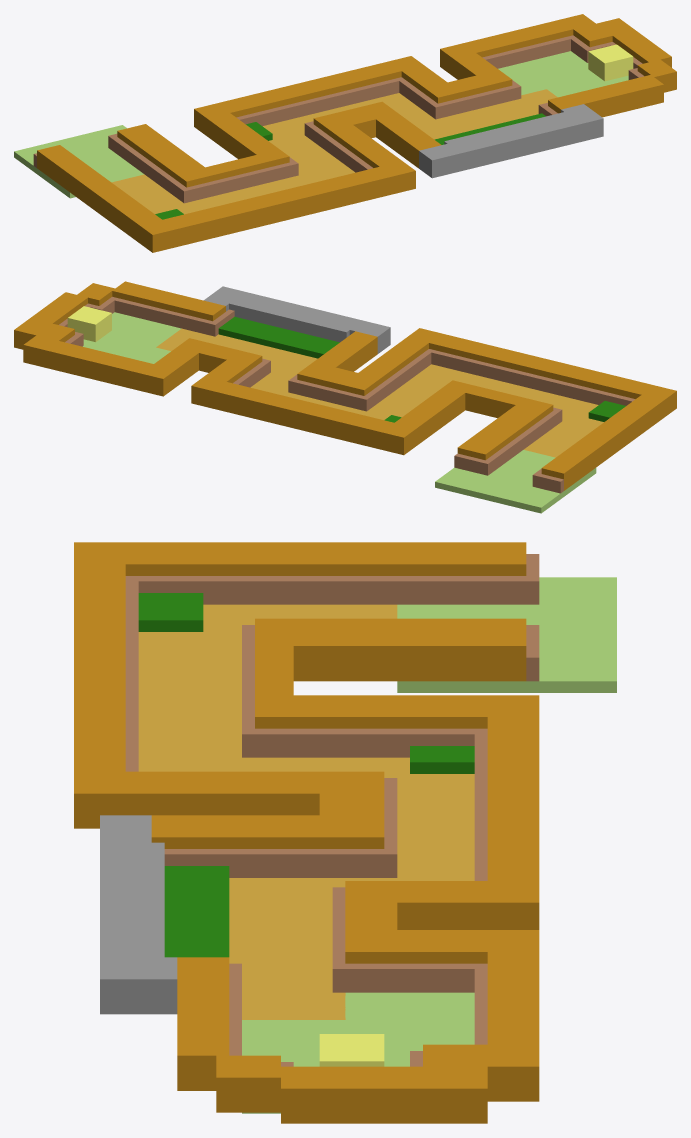
The model's file is letsGoPicachu_02.fbx.
The picture shows the model from 3 angles, top to bottom: view 1: azimuth 30°, elevation 25°; view 2: azimuth 150°, elevation 25°; view 3: azimuth 270°, elevation 25°; orthographic projection. The views are drawn at different scales.
Visible parts, largest first — view 1: Cube.042, Cube.038, Cube.043, Cube.030, Cube.070, Cube.036, Cube.027, Cube.054, Cube.073, Cube.029, Cube.082, Cube.034 (+28 smaller); view 2: Cube.030, Cube.042, Cube.070, Cube.043, Cube.034, Cube.046, Cube.029, Cube.027, Cube.079, Cube.073, Cube.038, Cube.039 (+30 smaller); view 3: Cube.027, Cube.043, Cube.070, Cube.042, Cube.075, Cube.041, Cube.030, Cube.045, Cube.064, Cube.034, Cube.039, Cube.029 (+34 smaller).
Part boxes in pixels (<box>): Cube.042: <box>139,166,392,252</box>; Cube.038: <box>419,114,580,178</box>; Cube.043: <box>37,145,161,242</box>; Cube.030: <box>217,56,424,117</box>; Cube.070: <box>14,125,143,198</box>; Cube.036: <box>548,75,663,117</box>; Cube.027: <box>117,124,215,187</box>; Cube.054: <box>236,77,404,126</box>; Cube.073: <box>263,121,354,183</box>; Cube.029: <box>194,103,278,159</box>; Cube.082: <box>498,51,597,95</box>; Cube.034: <box>463,14,595,57</box>; Cube.030: <box>191,376,394,449</box>; Cube.042: <box>429,333,676,417</box>; Cube.070: <box>435,450,596,513</box>; Cube.043: <box>541,395,663,490</box>; Cube.034: <box>23,335,153,390</box>; Cube.046: <box>426,349,635,405</box>; Cube.029: <box>381,387,465,455</box>; Cube.027: <box>457,398,553,460</box>; Cube.079: <box>218,316,339,358</box>; Cube.073: <box>362,364,475,419</box>; Cube.038: <box>232,292,390,353</box>; Cube.039: <box>297,331,377,384</box>; Cube.027: <box>255,618,526,681</box>; Cube.043: <box>125,542,526,575</box>; Cube.070: <box>397,577,616,692</box>; Cube.042: <box>74,542,125,771</box>; Cube.075: <box>138,648,241,757</box>; Cube.041: <box>74,771,319,828</box>; Cube.030: <box>487,717,539,929</box>; Cube.045: <box>125,576,526,604</box>; Cube.064: <box>332,1066,487,1123</box>; Cube.034: <box>487,952,539,1101</box>; Cube.039: <box>151,815,384,848</box>; Cube.029: <box>293,695,539,728</box>.
Bounding box in the file's own units: 20000 × 800 × 8400.
